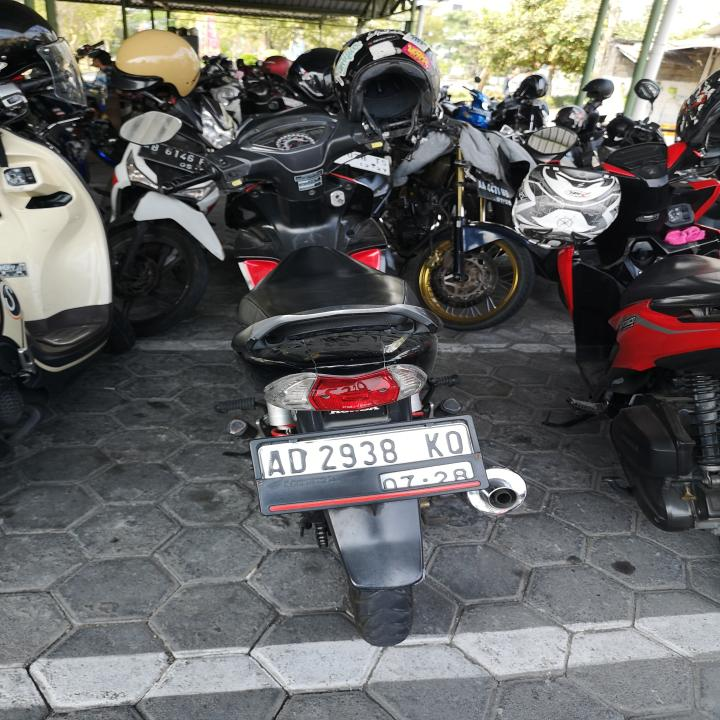plate: (256, 415, 481, 497), (138, 139, 209, 174), (478, 181, 512, 206)
